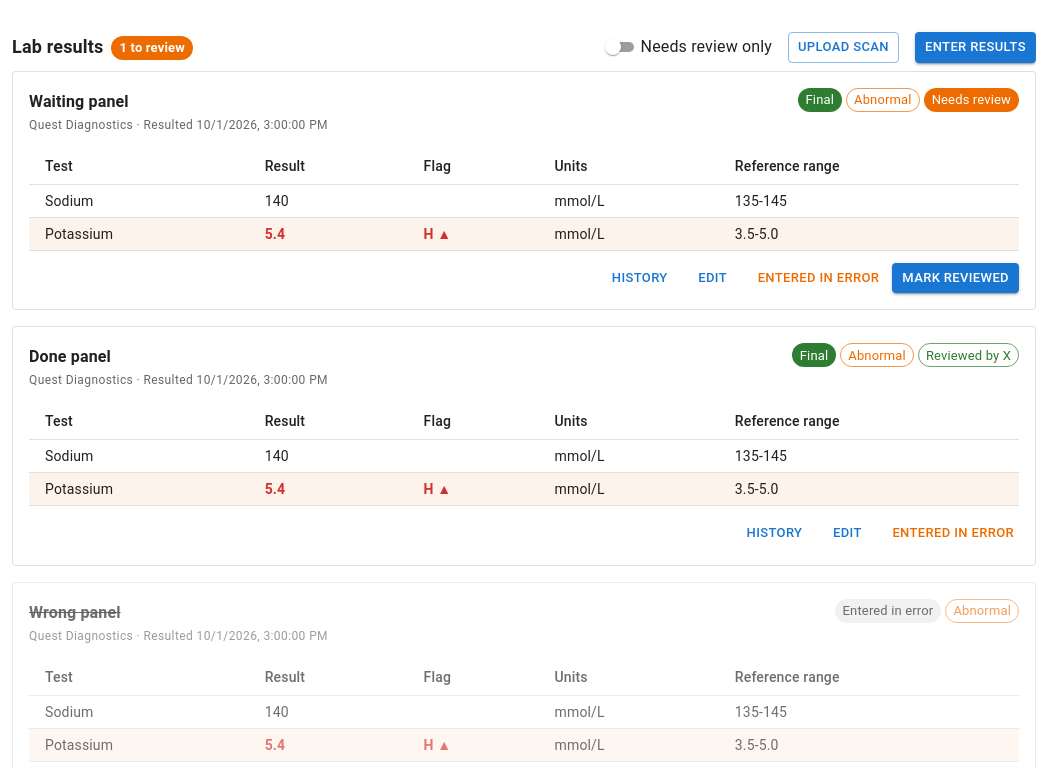
Test: 'Needs review only' hides reviewed and in-error reports
Expected: the heading "Waiting panel" is shown, [29, 92, 129, 111]
Expected: the heading "Done panel" is shown, [29, 347, 111, 366]
Click the switch labelled "Needs review only" at (686, 47), box [601, 35, 772, 59]
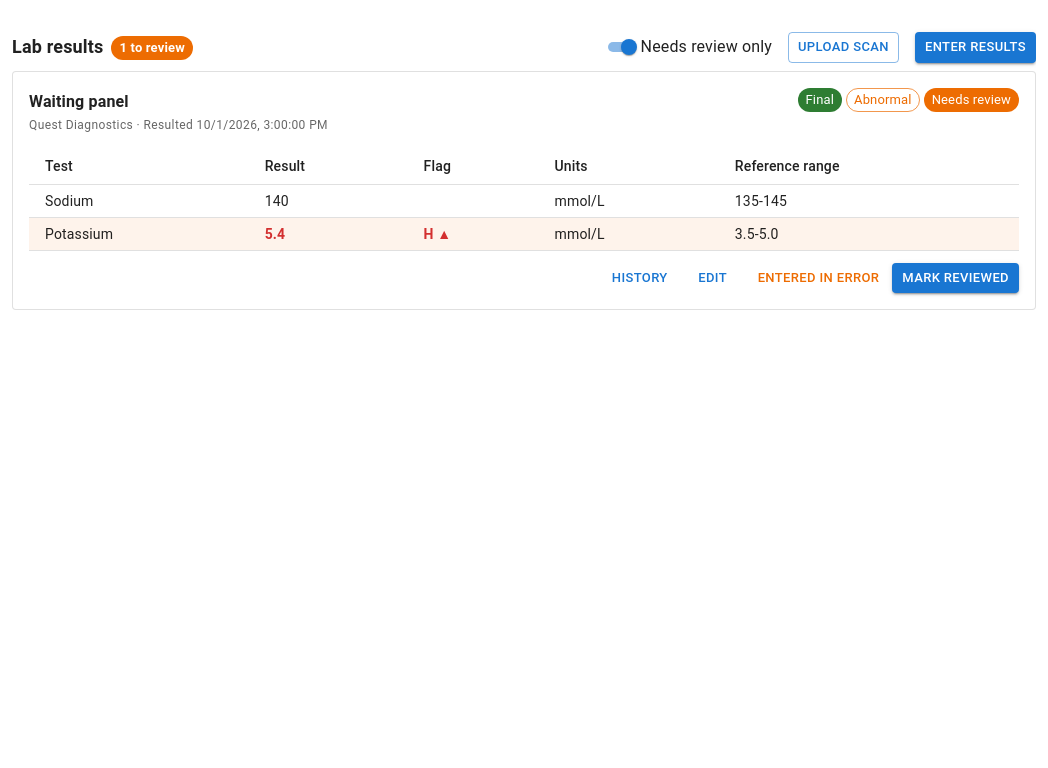
Expected: the heading "Waiting panel" is shown, [29, 92, 129, 111]
Result: the heading "Done panel" is gone
Result: the heading "Wrong panel" is gone
